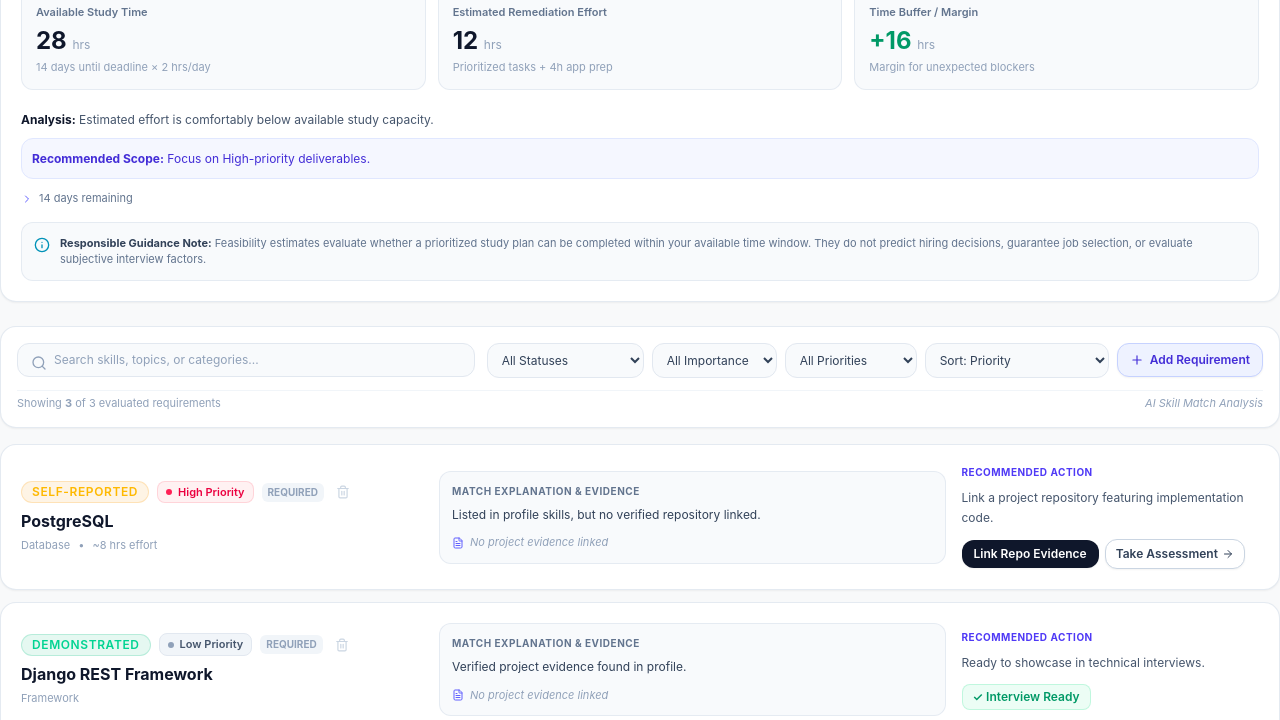
Test: SkillGapPage Component (Member 3) › filters skills when typing into search input
This screenshot has width=1280, height=720.
(page scrolled)
Expected: the heading "Django REST Framework" is shown, [21,664,213,684]
Type "PostgreSQL" into the field with placeholder "Search skills, topics, or categories..." at point(246, 360), box [17,343,475,377]
(page scrolled)
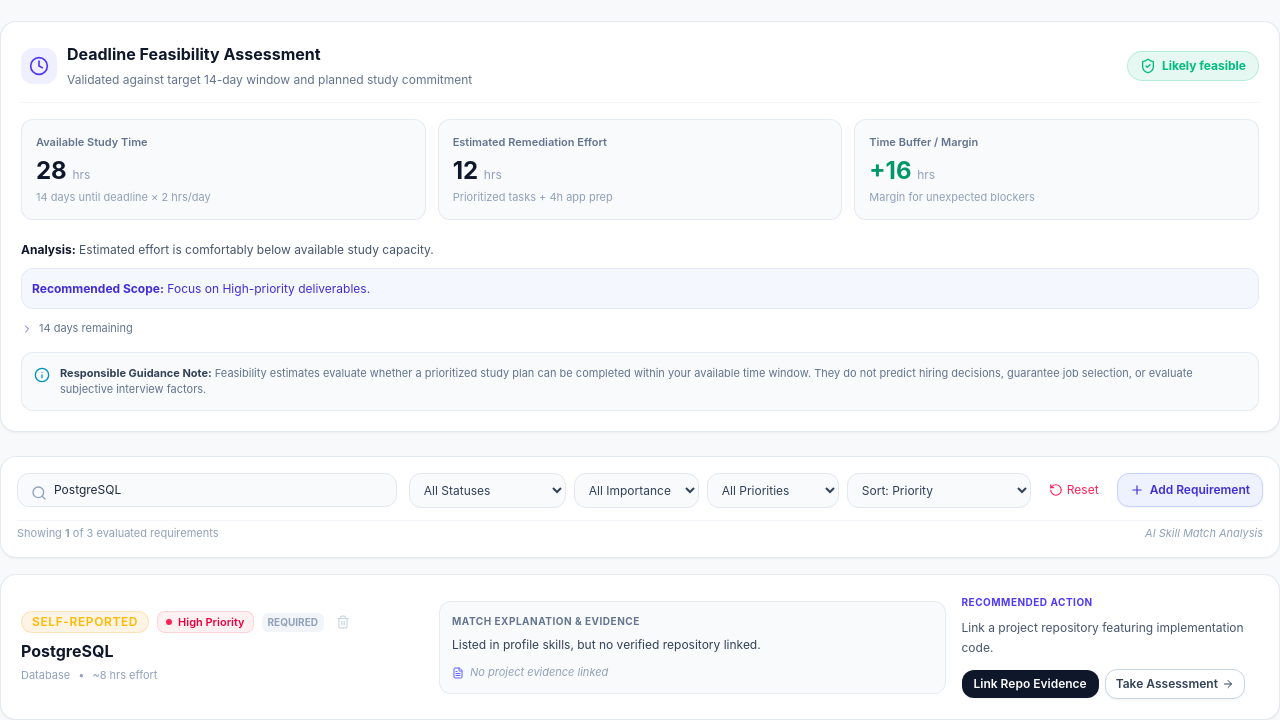
Expected: the heading "PostgreSQL" is shown, [21,641,113,661]
Expected: the heading "Django REST Framework" is gone
